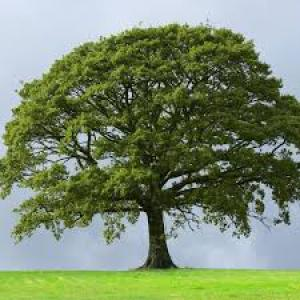Tree: (0, 20, 298, 269)
